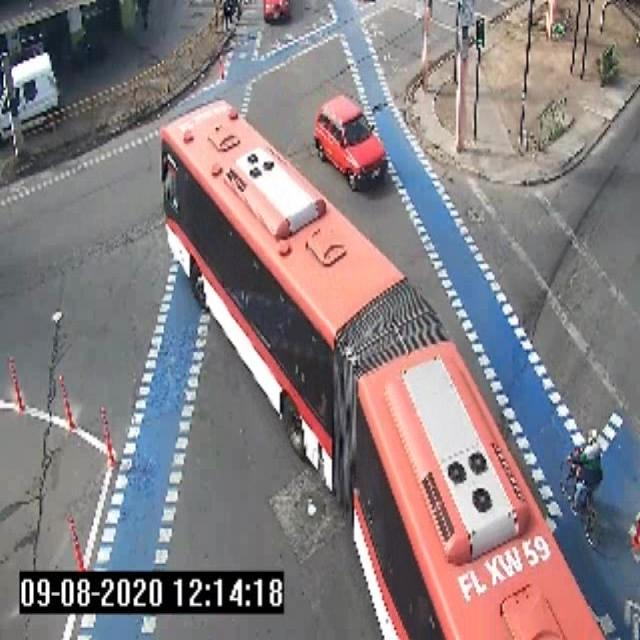AB: (156, 93, 613, 640)
